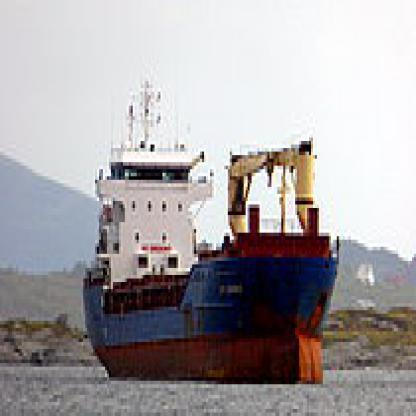Container Ship: (81, 74, 340, 384)
